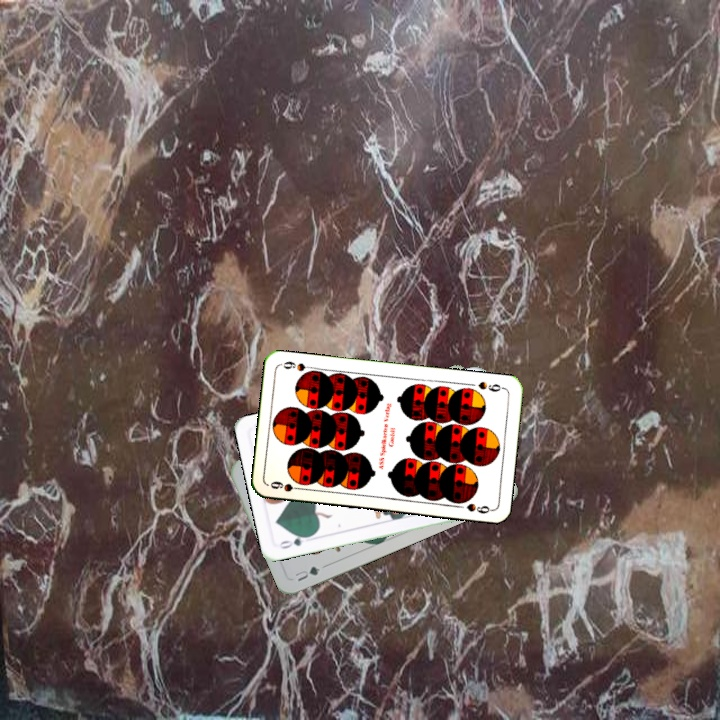GO: (275, 531, 314, 551)
GU: (291, 562, 323, 584)
S9: (266, 477, 307, 494), (474, 377, 507, 394)
